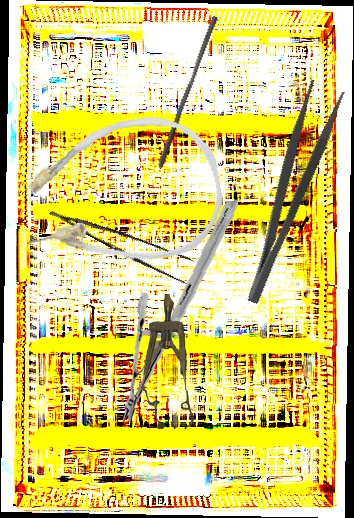Cannula: (9, 106, 231, 281)
Dressing Forceps: (224, 78, 349, 307)
Needle Holder: (109, 200, 250, 422)
Pusher: (157, 14, 219, 170)
Speculum: (140, 293, 197, 430)
Tissue Forceps: (49, 188, 200, 290)
